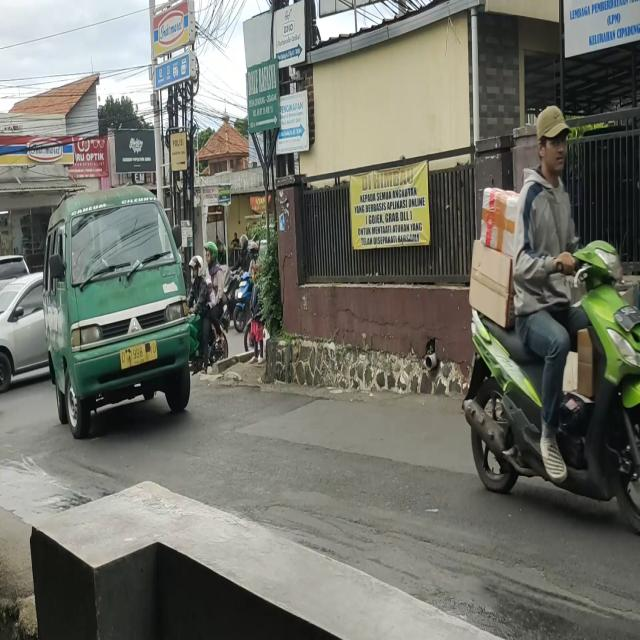helmet: (187, 258, 204, 282), (205, 242, 219, 270), (248, 244, 258, 260), (239, 234, 248, 247)
no-helmet: (538, 106, 569, 171), (207, 281, 214, 295)
